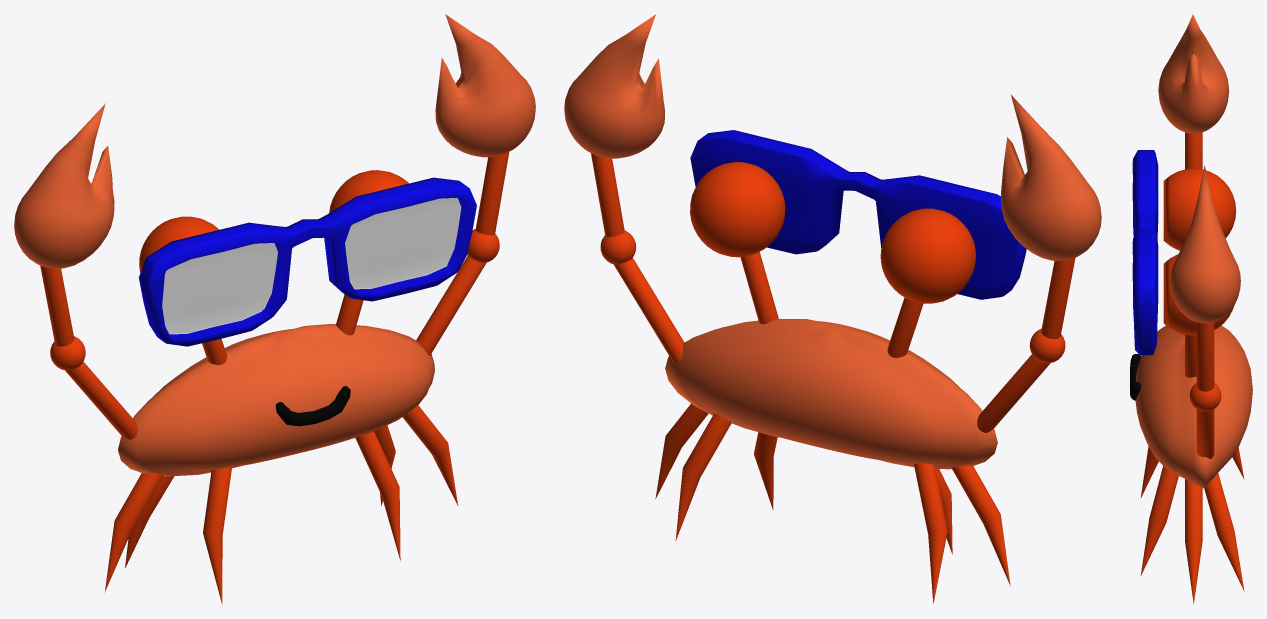
File: crab2.fbx
The picture shows the model from 3 angles, left to right: view 1: azimuth 30°, elevation 25°; view 2: azimuth 150°, elevation 25°; view 3: azimuth 270°, elevation 25°; orthographic projection. The views are drawn at different scales.
Parts seen in each view (by area): view 1: Sphere, Cube, Sphere.001, Sphere.007, Cylinder.013, Cylinder.004, Cylinder.010, Cylinder.006, Cylinder, Cylinder.014, Cylinder.001, Cylinder.011 (+7 smaller); view 2: Sphere, Cube, Sphere.001, Sphere.007, Sphere.003, Sphere.006, Cylinder.013, Cylinder.007, Cylinder.012, Cylinder.006, Cylinder, Cylinder.014 (+7 smaller); view 3: Sphere, Sphere.007, Sphere.001, Cube, Sphere.003, Cylinder.011, Cylinder.012, Cylinder.010, Cylinder.014, Sphere.006, Cylinder.013, Cylinder.001 (+4 smaller).
Part boxes in pixels (x1,y1,x2,y2): Sphere: (118, 324, 434, 476); Cube: (138, 177, 476, 346); Sphere.001: (14, 103, 114, 268); Sphere.007: (435, 14, 535, 157); Cylinder.013: (416, 256, 486, 355); Cylinder.004: (203, 467, 231, 604); Cylinder.010: (355, 431, 400, 560); Cylinder.006: (104, 473, 163, 592); Cylinder: (65, 361, 137, 439); Cylinder.014: (475, 152, 509, 235); Cylinder.001: (40, 265, 74, 346); Cylinder.011: (402, 405, 458, 505); Sphere: (665, 319, 997, 469); Cube: (690, 130, 1026, 299); Sphere.001: (1001, 95, 1101, 260); Sphere.007: (564, 14, 664, 158); Sphere.003: (880, 208, 975, 303); Sphere.006: (690, 162, 785, 257); Cylinder.013: (613, 258, 684, 363); Cylinder.007: (914, 463, 947, 603); Cylinder.012: (675, 413, 731, 540); Cylinder.006: (951, 466, 1010, 585); Cylinder: (977, 354, 1050, 432); Cylinder.014: (591, 153, 624, 237); Sphere: (1135, 325, 1252, 488); Sphere.007: (1170, 165, 1240, 323); Sphere.001: (1158, 14, 1229, 133); Cube: (1132, 150, 1158, 355); Sphere.003: (1163, 168, 1236, 250); Cylinder.011: (1185, 479, 1202, 604); Cylinder.012: (1204, 473, 1244, 591); Cylinder.010: (1140, 466, 1178, 575); Cylinder.014: (1196, 322, 1214, 391); Sphere.006: (1163, 254, 1233, 335); Cylinder.013: (1196, 409, 1214, 458); Cylinder.001: (1185, 132, 1202, 169).
Size of the model in its own units: 905 by 835 by 208.
